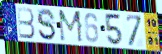5: (105, 12, 124, 47)
6: (83, 12, 100, 44)
7: (126, 14, 143, 48)
B: (16, 6, 36, 40)
M: (57, 9, 84, 44)
S: (36, 8, 57, 42)
